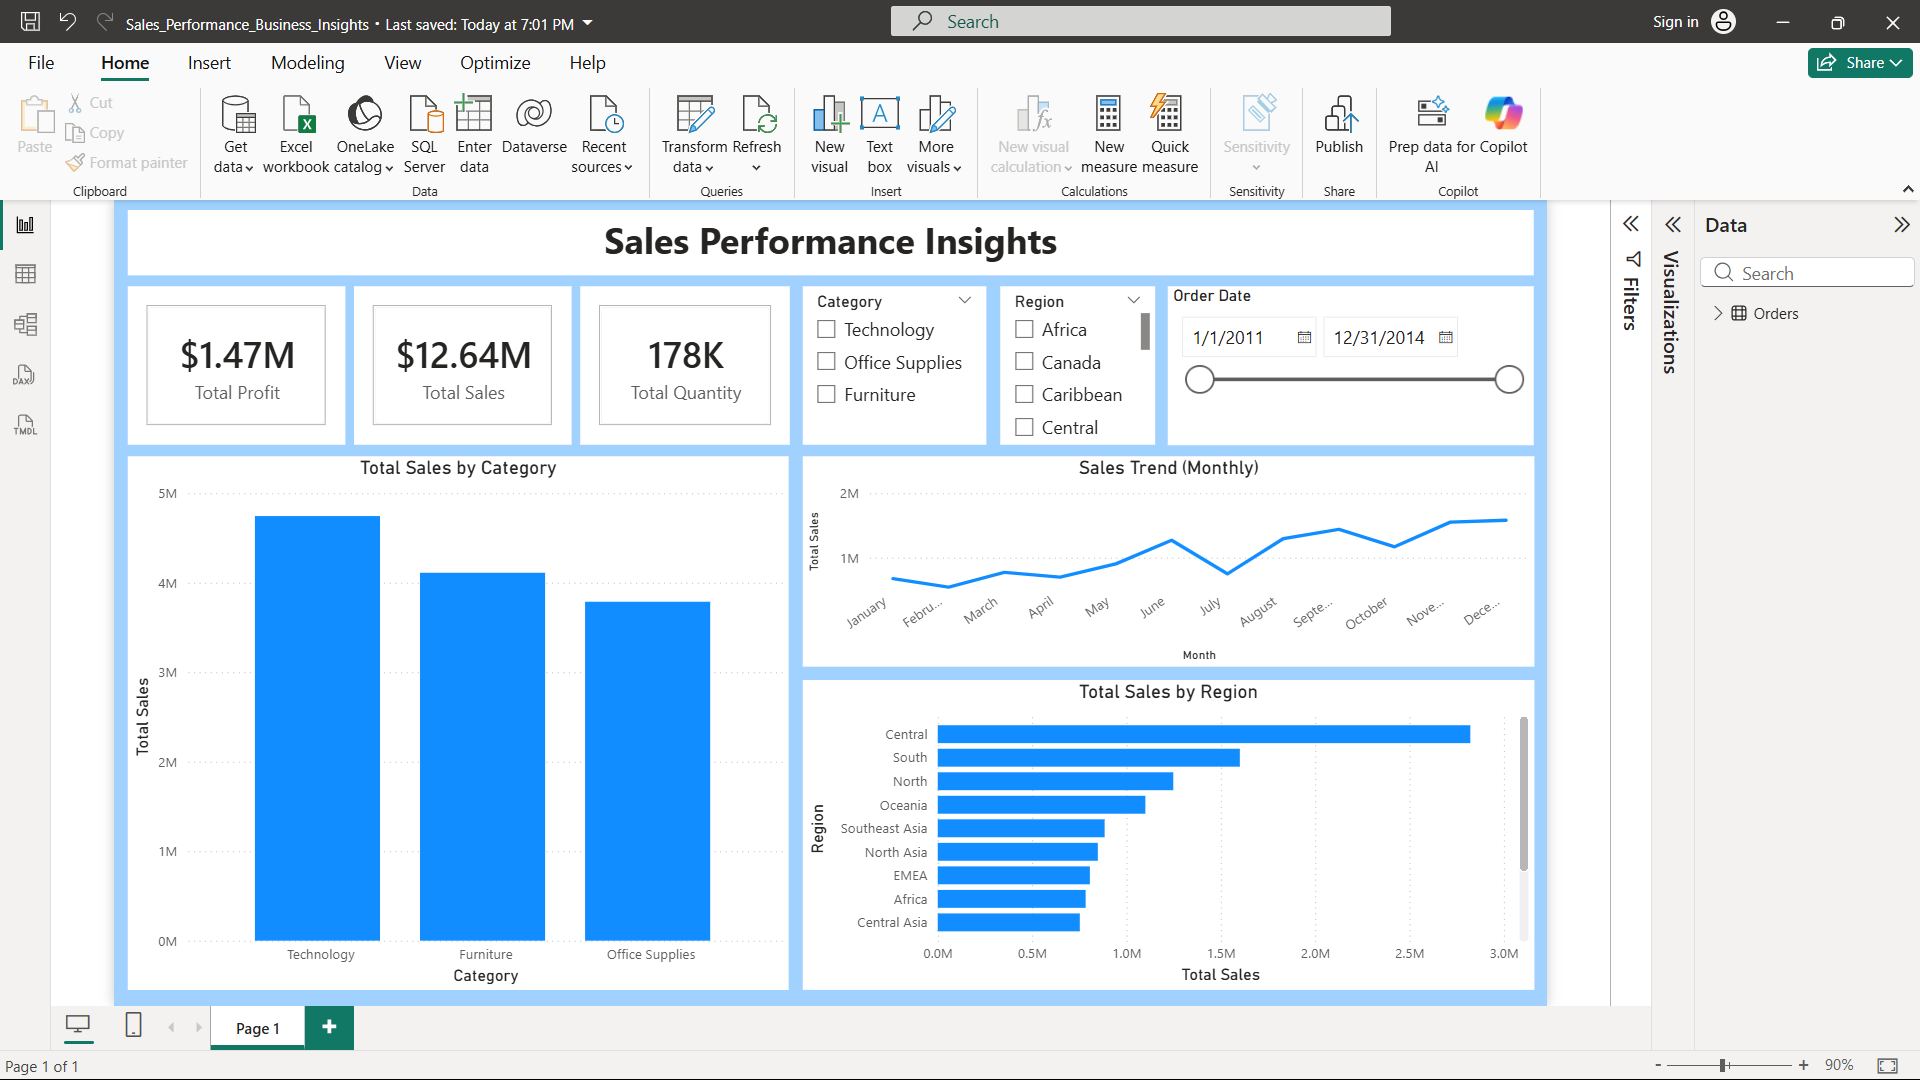

The dashboard page shown, as its layout file describes it:
{"tool":"powerbi","page":{"name":"Page 1","canvas":[1280,720],"ordinal":0},"visuals":[{"type":"cardVisual","fields":{"Data":["Orders.Total Profit"]},"box":[12.3,77,194.3,141.8],"z":0},{"type":"cardVisual","fields":{"Data":["Orders.Total Sales"]},"box":[214.4,77,194.3,141.8],"z":1000},{"type":"cardVisual","fields":{"Data":["Orders.Total Quantity"]},"box":[416.3,76.7,187.2,141.9],"z":2000},{"type":"lineChart","title":"Sales Trend (Monthly)","fields":{"Y":["Orders.Total Sales"],"Category":["Orders.Order_Date.Variation.Date Hierarchy.Month"]},"box":[615.1,229.1,653.5,188.4],"z":3000},{"type":"clusteredColumnChart","fields":{"Y":["Orders.Total Sales"],"Category":["Orders.Category"]},"box":[12.8,229.1,590.7,476.7],"z":4000},{"type":"clusteredBarChart","fields":{"Category":["Orders.Region"],"Y":["Orders.Total Sales"]},"box":[615.1,429.1,653.5,276.7],"z":5000},{"type":"slicer","title":"Order Date","fields":{"Values":["Orders.Order_Date"]},"box":[941.9,76.7,326,141.9],"z":6000},{"type":"slicer","fields":{"Values":["Orders.Region"]},"box":[791.9,76.7,138.4,141.9],"z":7000},{"type":"slicer","fields":{"Values":["Orders.Category"]},"box":[615.1,76.7,164,141.9],"z":8000},{"type":"textbox","box":[12.8,9.3,1255.8,58.1],"z":9000}]}

Visuals, with their boxes on the page's 1280x720 design canvas (x1, y1, x2, y2). These are canvas units, not pixel positions in the 1920x1080 screenshot, which may show the page scaled, cropped or inside an application window:
cardVisual - Orders.Total Profit: 12:77:207:219
cardVisual - Orders.Total Sales: 214:77:409:219
cardVisual - Orders.Total Quantity: 416:77:604:219
"Sales Trend (Monthly)" lineChart: 615:229:1269:418
clusteredColumnChart - Orders.Total Sales x Orders.Category: 13:229:604:706
clusteredBarChart - Orders.Region x Orders.Total Sales: 615:429:1269:706
"Order Date" slicer: 942:77:1268:219
slicer - Orders.Region: 792:77:930:219
slicer - Orders.Category: 615:77:779:219
textbox: 13:9:1269:67
